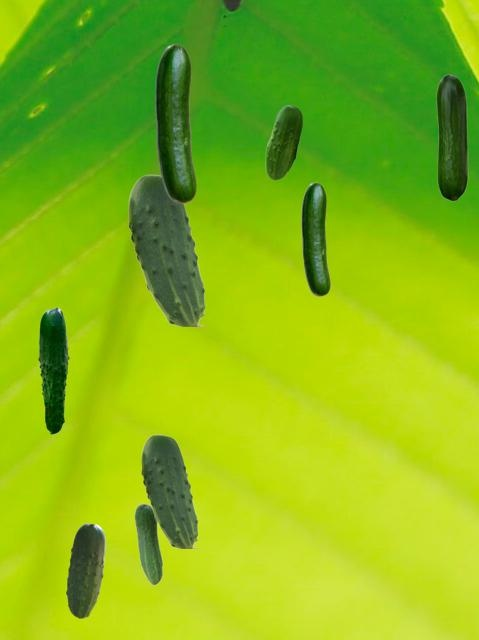cucumber: (128, 174, 203, 325), (155, 44, 195, 202), (141, 434, 196, 547), (436, 74, 467, 200), (38, 307, 68, 433), (66, 523, 104, 617), (301, 182, 329, 295), (265, 105, 301, 179), (134, 503, 162, 584)
